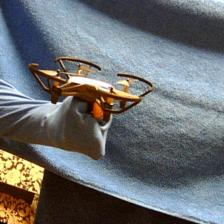drone: (28, 55, 156, 122)
